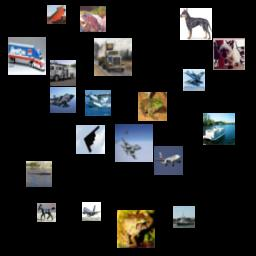airplane: (115, 124, 153, 162), (76, 125, 105, 154), (154, 146, 183, 175), (85, 90, 111, 116), (50, 87, 76, 113), (183, 69, 205, 91), (82, 202, 101, 221)
cat: (213, 38, 245, 70)
dog: (180, 8, 212, 40)
frog: (117, 210, 155, 248), (138, 92, 167, 121), (80, 6, 106, 32)
ship: (203, 113, 235, 145), (26, 161, 52, 187), (173, 206, 195, 228)
truck: (8, 37, 46, 75), (94, 38, 132, 76), (50, 60, 76, 86), (47, 5, 66, 24)
